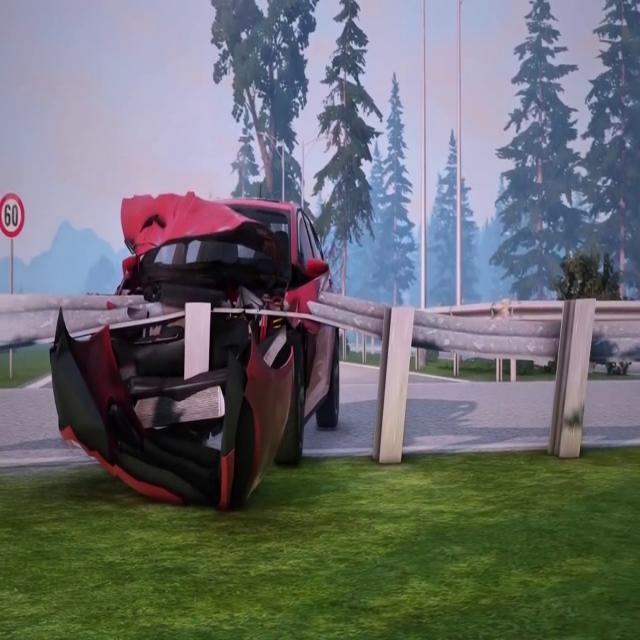accident: (32, 193, 431, 514)
